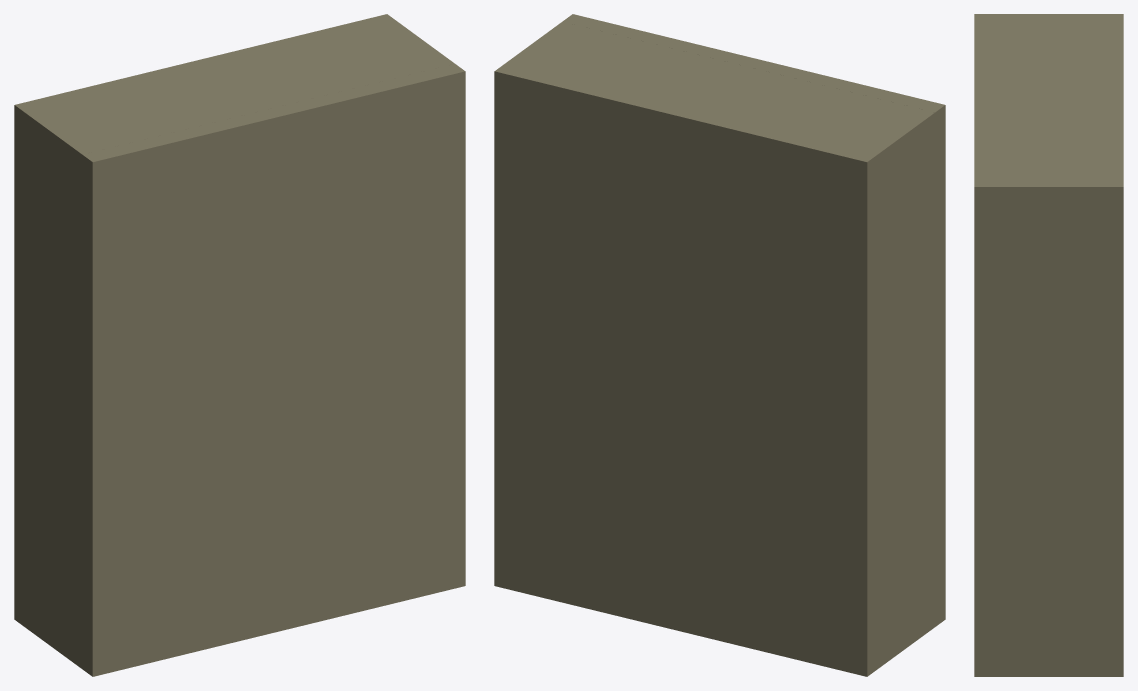
Rendered from ElevatorFuseBox.fbx.
3 renders of one model, left to right at view 1: azimuth 30°, elevation 25°; view 2: azimuth 150°, elevation 25°; view 3: azimuth 270°, elevation 25°, orthographic. The views are drawn at different scales.
Parts seen in each view (by area): view 1: FuseBoxLid, FuseBox; view 2: FuseBox, FuseBoxLid; view 3: FuseBox, FuseBoxLid.
Boxes of the visible parts, x1,y1,x2,y2 form: FuseBoxLid: [82, 64, 465, 676]; FuseBox: [14, 14, 454, 668]; FuseBox: [494, 21, 934, 676]; FuseBoxLid: [563, 14, 945, 626]; FuseBox: [994, 14, 1123, 676]; FuseBoxLid: [974, 14, 994, 676].
Bounding box in the file's own units: 53.73 × 70.91 × 19.56.
